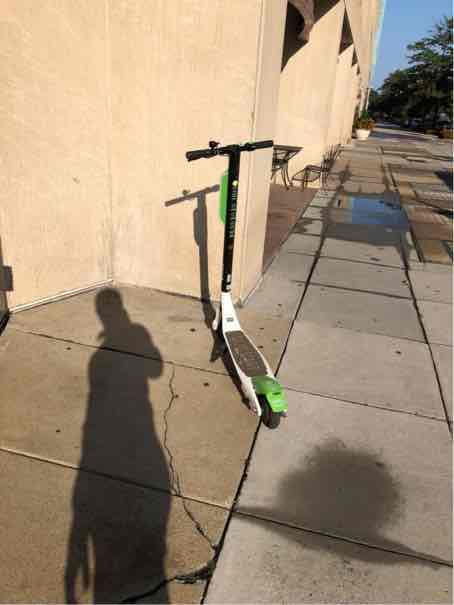scooter: (176, 121, 311, 438)
